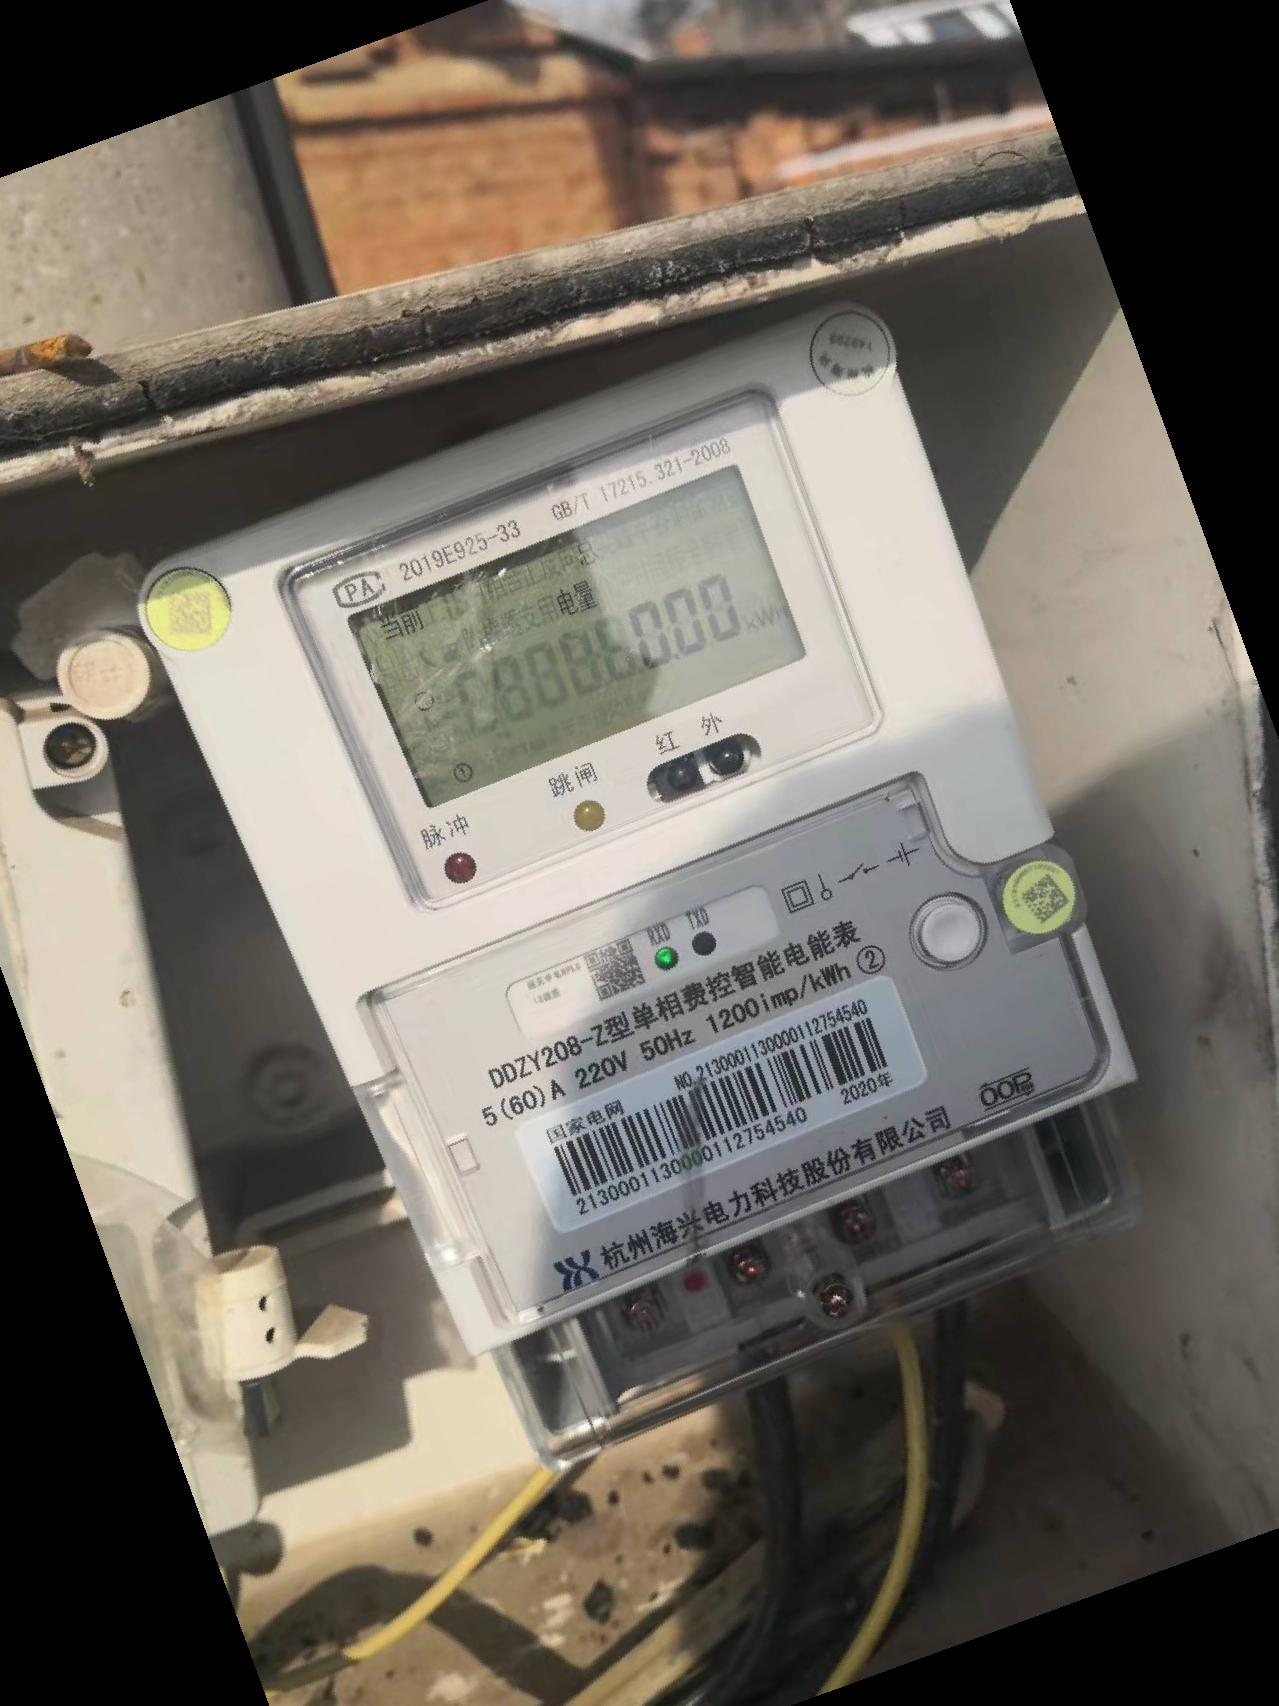digital: (150, 325, 1138, 1341)
